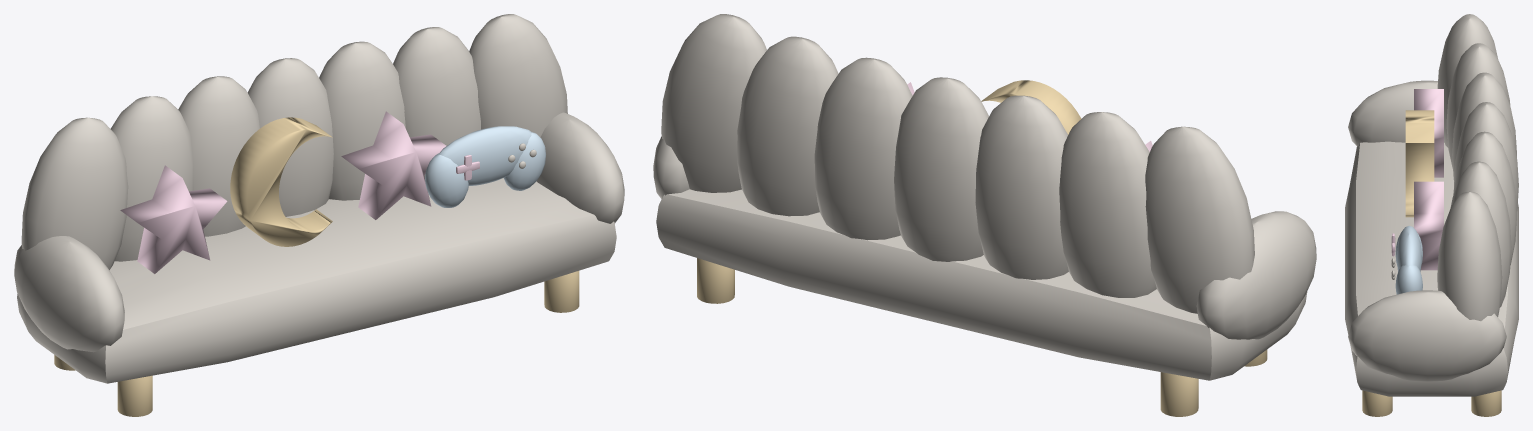
Rendered from cloud_sofa.glb.
3 renders of one model, left to right at view 1: azimuth 30°, elevation 25°; view 2: azimuth 150°, elevation 25°; view 3: azimuth 270°, elevation 25°, orthographic. The views are drawn at different scales.
Visible parts, largest first — view 1: scalloped back cushion (×7), curved seat base, padded arm (×2), star pillow (×2), crescent cushion, controller cushion center, controller cushion grip (×2), gold foot (×2); view 2: scalloped back cushion (×7), curved seat base, padded arm (×2), gold foot (×2), crescent cushion; view 3: scalloped back cushion (×7), curved seat base, padded arm (×2), star pillow (×2), crescent cushion, gold foot (×2), controller cushion center, controller cushion grip.
Part boxes in pixels (x1,y1,x2,y2): scalloped back cushion (×7): (21,14,567,269); curved seat base: (17,178,616,383); padded arm (×2): (14,112,624,352); star pillow (×2): (120,111,446,273); crescent cushion: (230,117,332,246); controller cushion center: (439,126,531,185); controller cushion grip (×2): (425,132,545,207); gold foot (×2): (117,271,579,416); scalloped back cushion (×7): (661,14,1254,313); curved seat base: (656,189,1307,380); padded arm (×2): (653,136,1316,339); gold foot (×2): (697,258,1198,416); crescent cushion: (981,80,1081,134); scalloped back cushion (×7): (1437,14,1518,321); curved seat base: (1345,141,1518,396); padded arm (×2): (1348,80,1506,381); star pillow (×2): (1414,89,1443,270); crescent cushion: (1405,110,1434,217); gold foot (×2): (1362,390,1501,416); controller cushion center: (1396,225,1421,271); controller cushion grip: (1395,265,1422,294).
Size of the model in its own units: 3.7 by 1.58 by 1.15.
